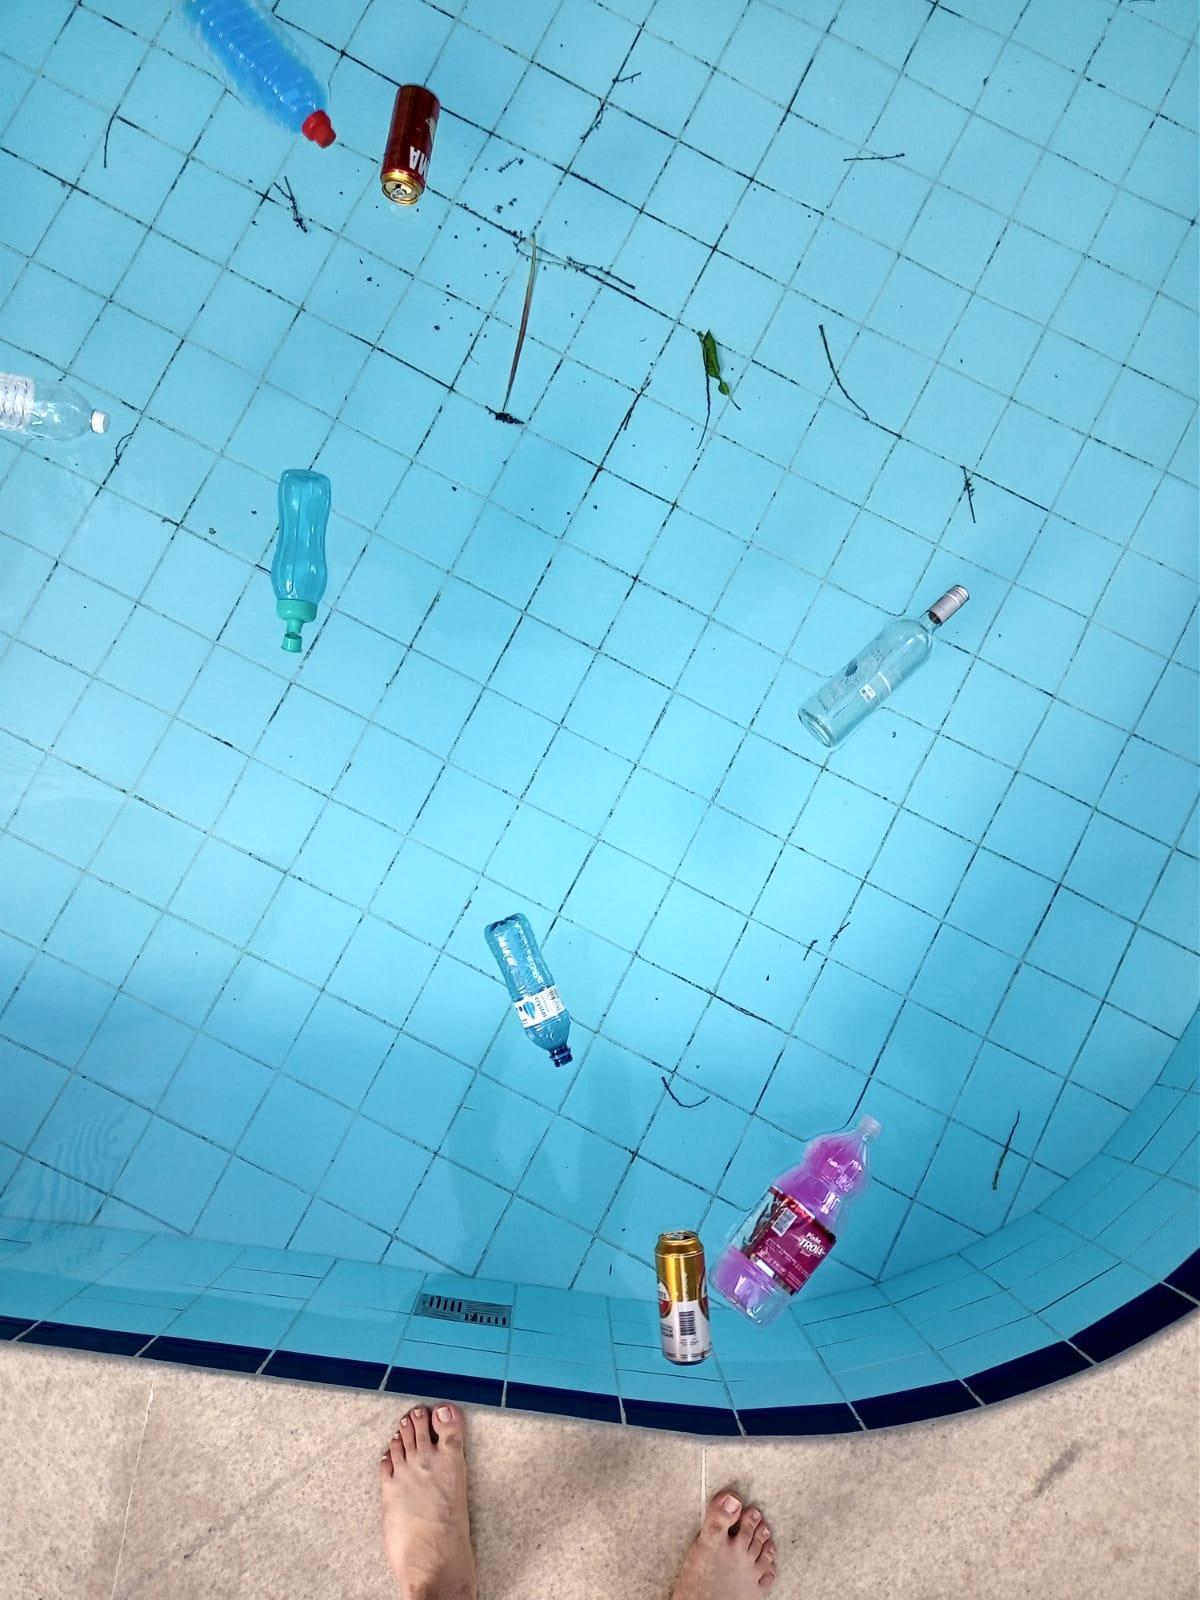Metal: (364, 62, 475, 252), (608, 1218, 707, 1378)
Plastic: (712, 1094, 884, 1340), (154, 0, 346, 166), (456, 888, 596, 1088), (244, 452, 360, 676)
